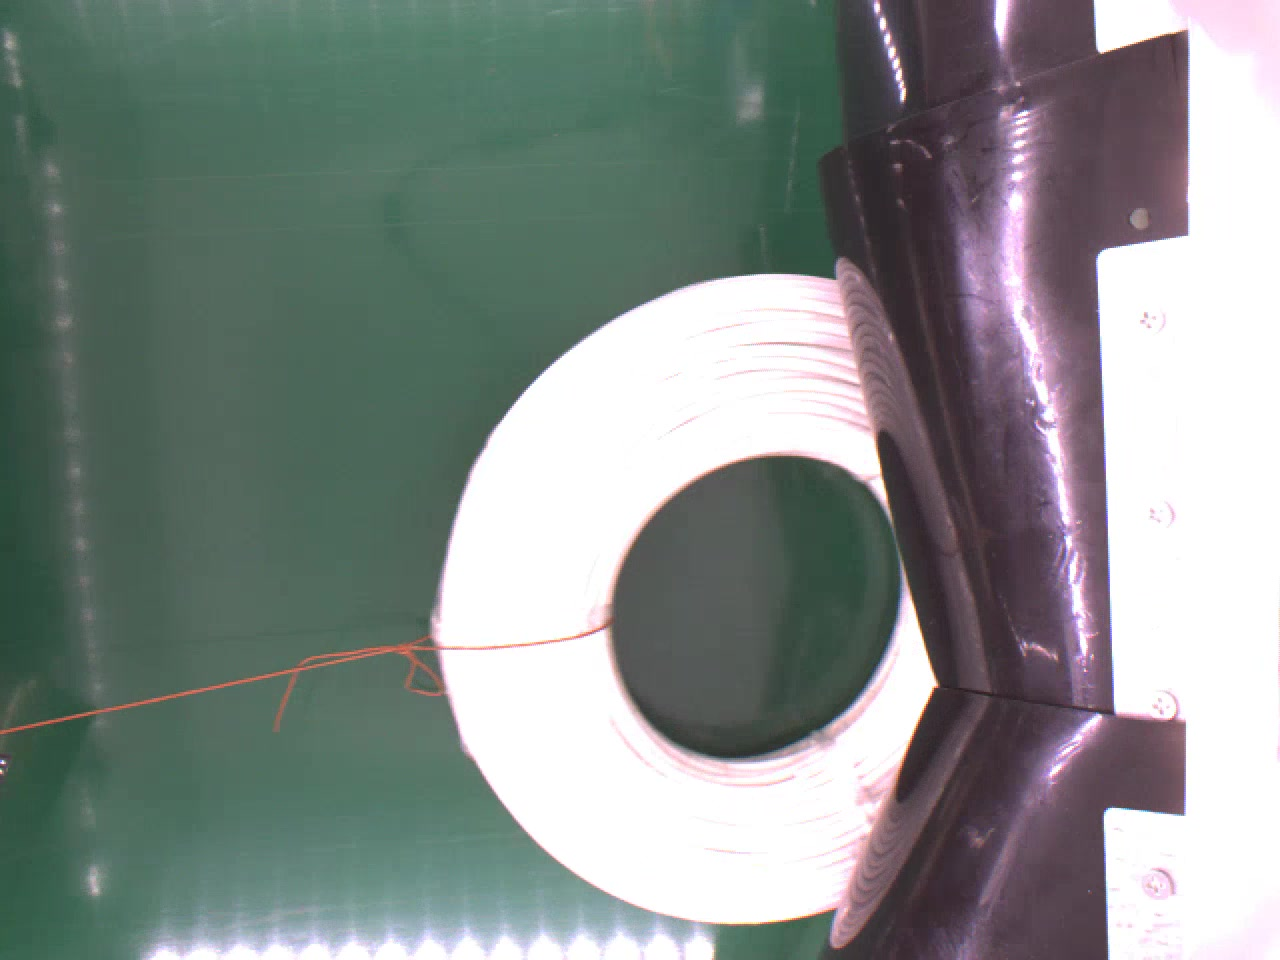white: (427, 269, 939, 922)
